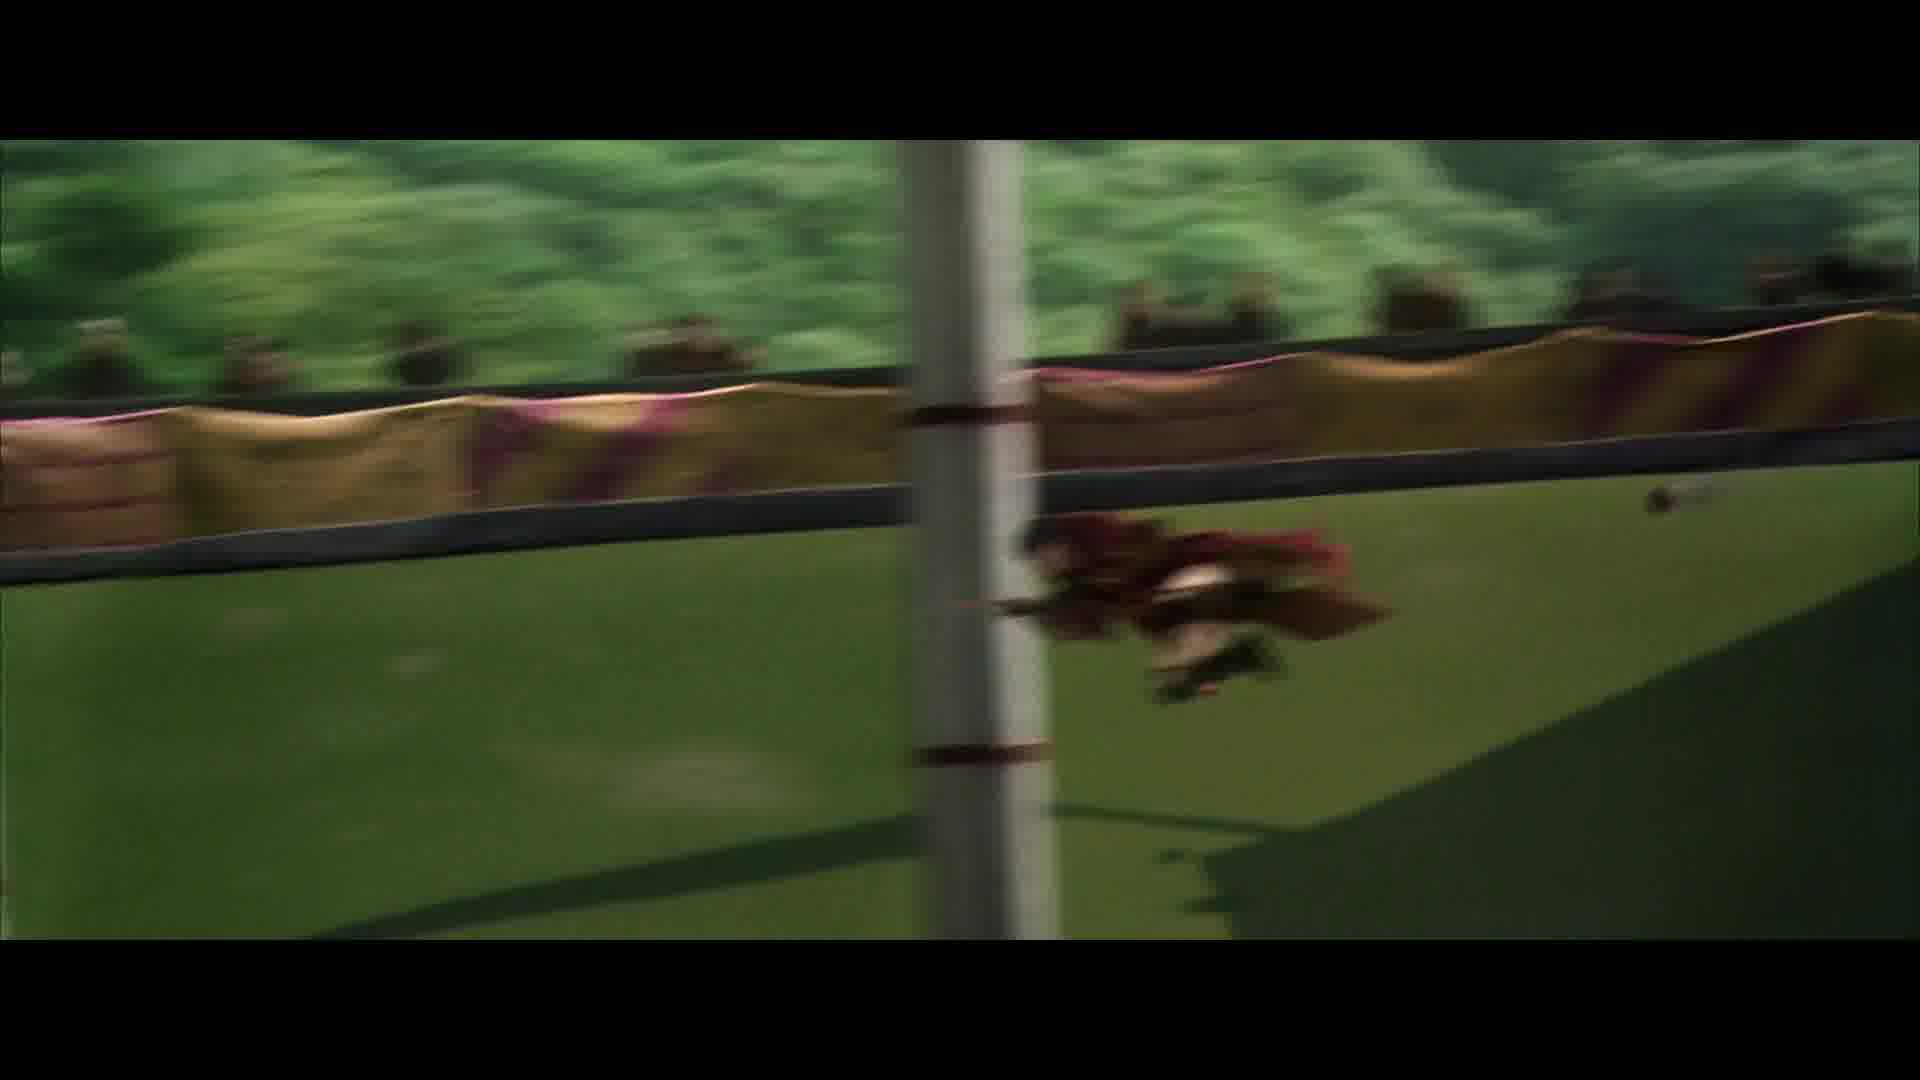bludger: (1644, 483, 1677, 518)
